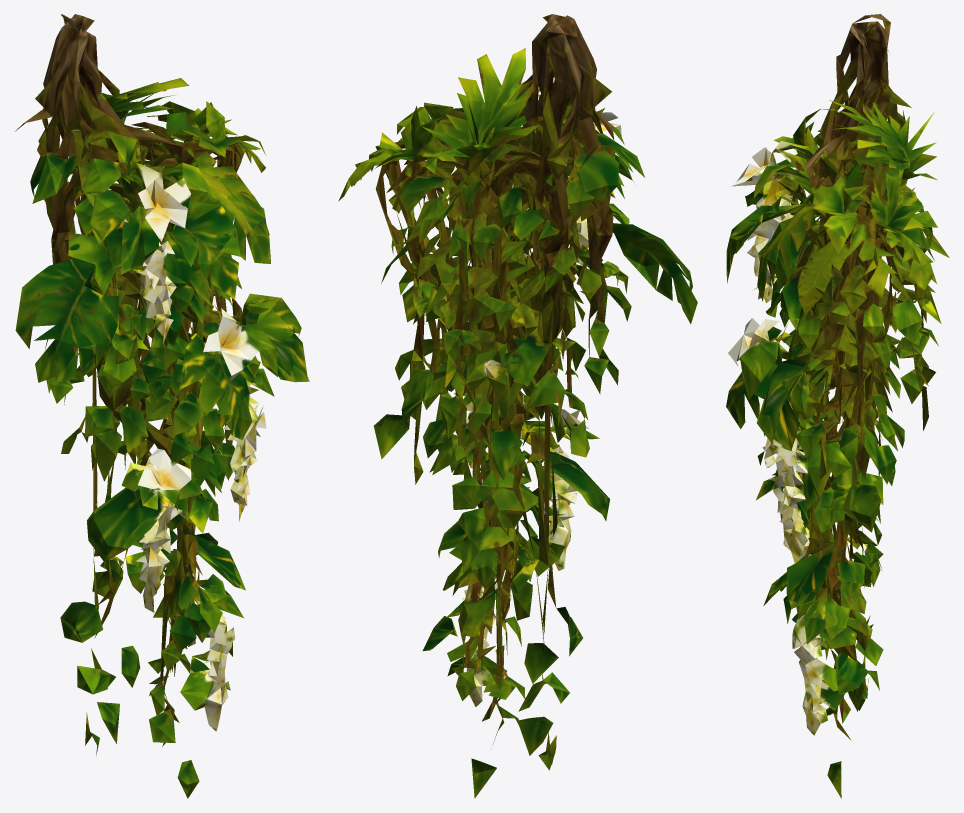
File: cliff_vine.glb
The picture shows the model from 3 angles, left to right: view 1: azimuth 30°, elevation 25°; view 2: azimuth 150°, elevation 25°; view 3: azimuth 270°, elevation 25°; orthographic projection. The views are drawn at different scales.
Parts seen in each view (by area): view 1: output_unwrapped; view 2: output_unwrapped; view 3: output_unwrapped.
Part boxes in pixels (x1,y1,x2,y2): output_unwrapped: [15, 14, 309, 798]; output_unwrapped: [338, 14, 697, 798]; output_unwrapped: [726, 14, 949, 798].
Size of the model in its own units: 0.6801 by 1.8 by 0.4944.
Materials: 1 (1 with a texture image).
